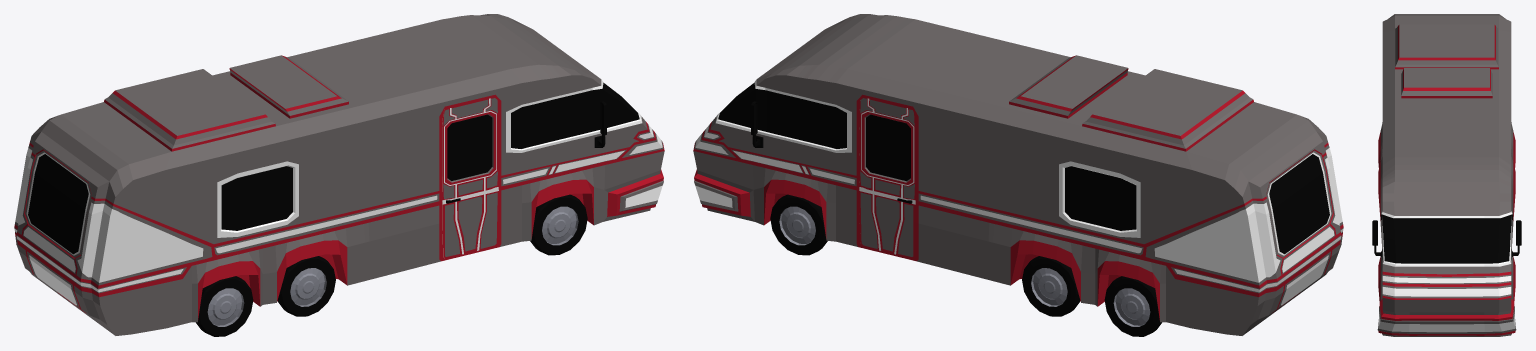
Rendered from RVV2.fbx.
The picture shows the model from 3 angles, left to right: view 1: azimuth 30°, elevation 25°; view 2: azimuth 150°, elevation 25°; view 3: azimuth 270°, elevation 25°; orthographic projection. The views are drawn at different scales.
Visible parts, largest first — view 1: RV, RV Door Right, RV Wheels; view 2: RV, RV Door Left, RV Wheels; view 3: RV.
Part boxes in pixels (x1=…): RV: x1=14, y1=14, x2=664, y2=335; RV Door Right: x1=442, y1=97, x2=499, y2=258; RV Wheels: x1=196, y1=194, x2=587, y2=336; RV: x1=693, y1=14, x2=1343, y2=335; RV Door Left: x1=859, y1=97, x2=915, y2=258; RV Wheels: x1=770, y1=194, x2=1161, y2=336; RV: x1=1372, y1=14, x2=1521, y2=336.
Bounding box in the file's own units: 688 × 2373 × 796.
